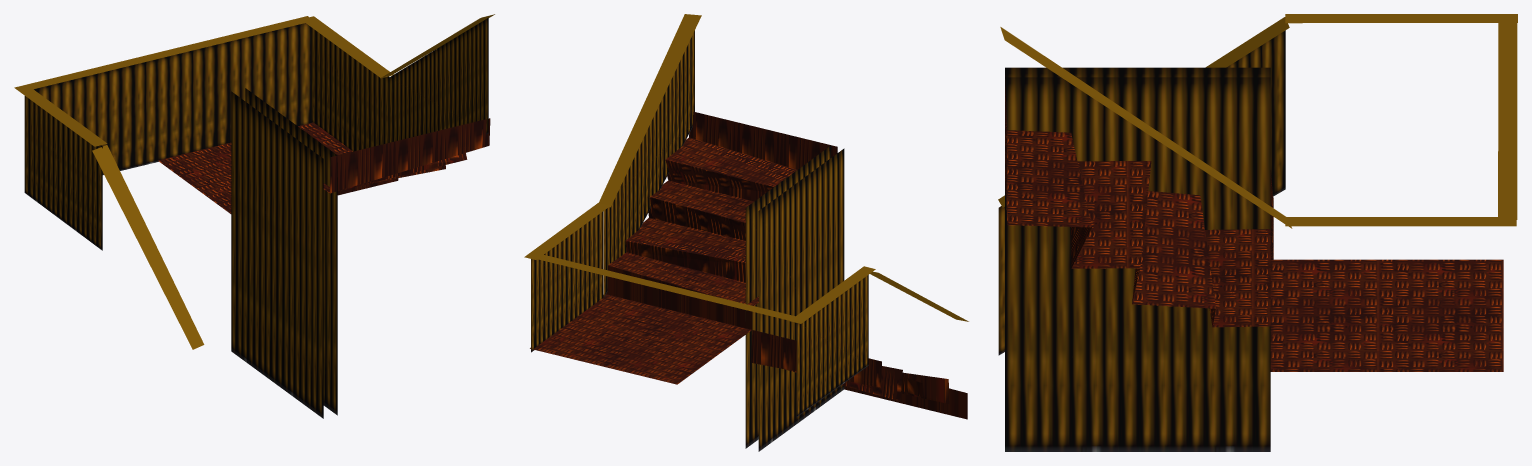
File: TreppeAußen [Braun]_2122.glb
The picture shows the model from 3 angles, left to right: view 1: azimuth 30°, elevation 25°; view 2: azimuth 150°, elevation 25°; view 3: azimuth 270°, elevation 25°; orthographic projection. The views are drawn at different scales.
Parts seen in each view (by area): view 1: pPlaneShape11, pPlaneShape5, polySurfaceShape978, pPlaneShape2, pPlaneShape4, pPlaneShape3, pPlaneShape12, pPlaneShape6, pPlaneShape8, pPlaneShape9, pPlaneShape10, pPlaneShape7; view 2: polySurfaceShape978, pPlaneShape11, pPlaneShape2, pPlaneShape4, pPlaneShape3, polySurfaceShape977, pPlaneShape12, pPlaneShape7, pPlaneShape8, pPlaneShape9, pPlaneShape10, pPlaneShape6; view 3: pPlaneShape12, polySurfaceShape978, pPlaneShape1, pPlaneShape8, pPlaneShape7, pPlaneShape11, pPlaneShape10, pPlaneShape9, pPlaneShape6.
Part boxes in pixels (x1,y1,x2,y2): pPlaneShape11: (231,91,323,418); pPlaneShape5: (34,23,311,174); polySurfaceShape978: (158,118,490,213); pPlaneShape2: (389,18,488,142); pPlaneShape4: (24,96,102,250); pPlaneShape3: (311,28,389,151); pPlaneShape12: (245,88,337,415); pPlaneShape6: (92,145,204,349); pPlaneShape8: (24,16,313,89); pPlaneShape9: (14,85,107,146); pPlaneShape10: (306,16,393,78); pPlaneShape7: (380,14,494,78); polySurfaceShape978: (530,111,837,384); pPlaneShape11: (758,148,844,451); pPlaneShape2: (603,30,694,297); pPlaneShape4: (796,275,868,416); pPlaneShape3: (531,211,602,352); polySurfaceShape977: (751,330,967,419); pPlaneShape12: (745,145,831,448); pPlaneShape7: (599,14,701,207); pPlaneShape8: (530,252,797,321); pPlaneShape9: (789,266,875,323); pPlaneShape10: (524,203,610,259); pPlaneShape6: (870,271,968,321); pPlaneShape12: (1005,77,1270,451); polySurfaceShape978: (1005,75,1503,371); pPlaneShape1: (998,30,1285,355); pPlaneShape8: (1498,20,1517,219); pPlaneShape7: (1000,27,1292,228); pPlaneShape11: (1005,67,1270,77); pPlaneShape10: (1285,217,1516,226); pPlaneShape9: (1285,14,1517,23); pPlaneShape6: (998,17,1289,207).
Size of the model in its own units: 0.4797 by 0.5464 by 0.4894.
14 materials, 9 textured.
